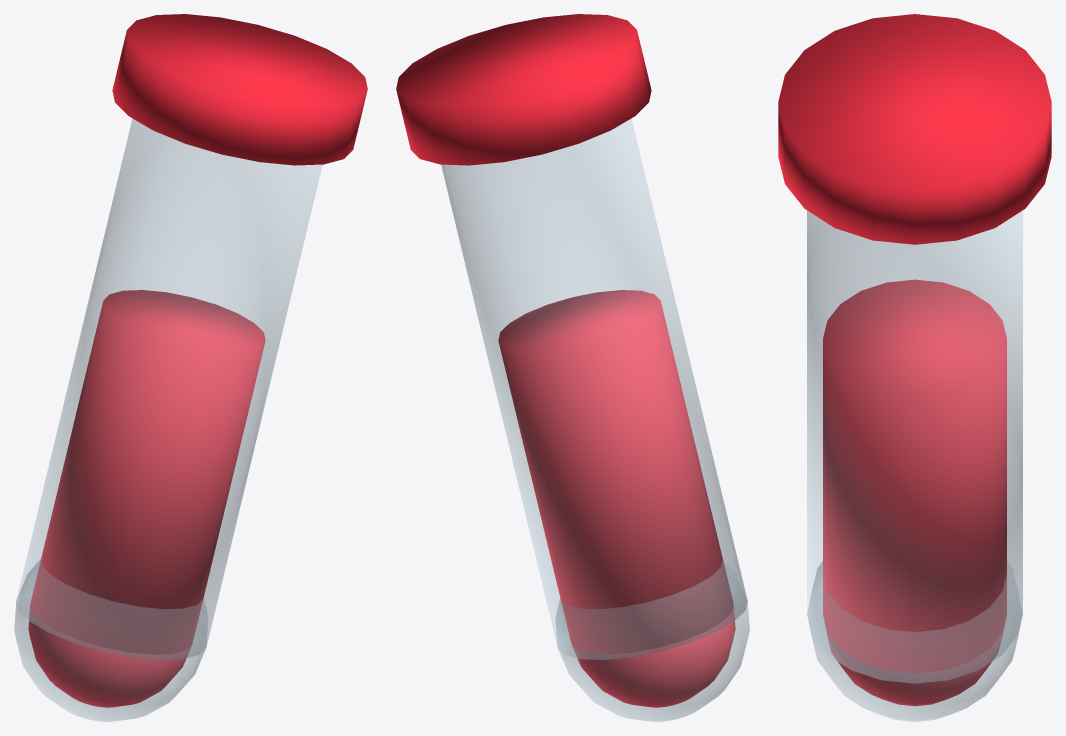
Rendered from tup.glb.
3 renders of one model, left to right at view 1: azimuth 30°, elevation 25°; view 2: azimuth 150°, elevation 25°; view 3: azimuth 270°, elevation 25°, orthographic. The views are drawn at different scales.
Visible parts, largest first — view 1: tup; view 2: tup; view 3: tup.
Boxes of the visible parts, x1,y1,x2,y2 form: tup: (14,14,367,721); tup: (396,14,749,721); tup: (778,14,1051,721).
Size of the model in its own units: 0.5022 by 0.96 by 0.3324.
